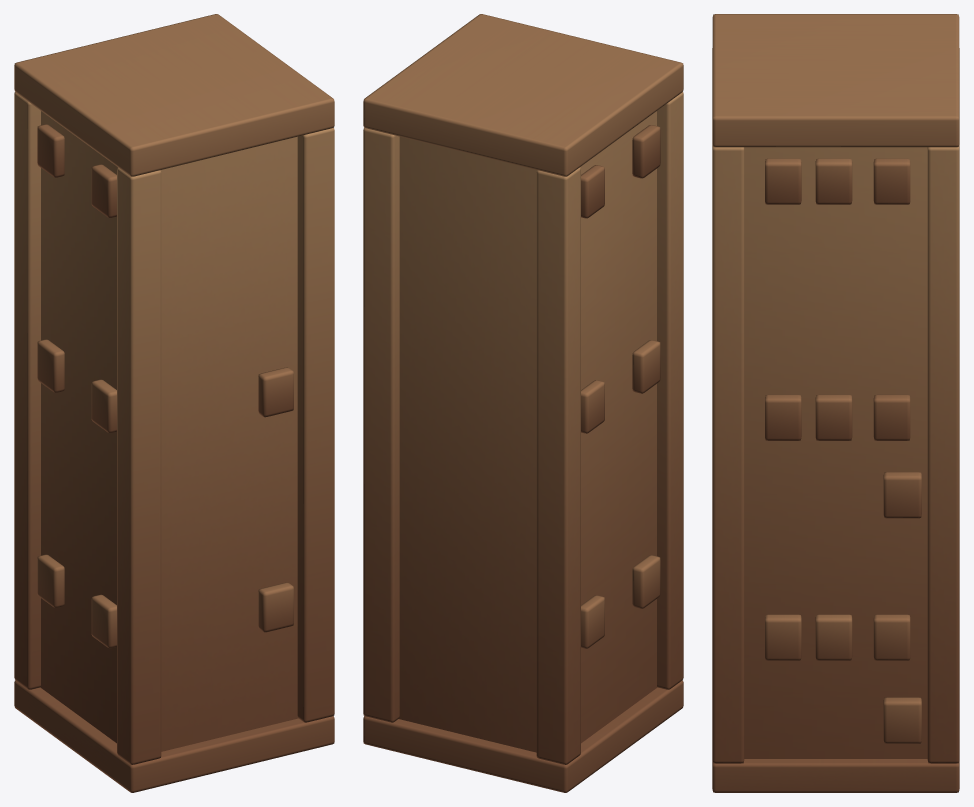
Rendered from SM_Clay_Body_04.fbx.
3 renders of one model, left to right at view 1: azimuth 30°, elevation 25°; view 2: azimuth 150°, elevation 25°; view 3: azimuth 270°, elevation 25°, orthographic. The views are drawn at different scales.
Parts seen in each view (by area): view 1: SM_Clay_Body_04; view 2: SM_Clay_Body_04; view 3: SM_Clay_Body_04.
Part boxes in pixels (<box>): SM_Clay_Body_04: <box>14,14,334,792</box>; SM_Clay_Body_04: <box>363,14,683,792</box>; SM_Clay_Body_04: <box>712,14,959,792</box>.
Bounding box in the file's own units: 0.9992 × 2.99 × 0.991.
1 material, 1 textured.
